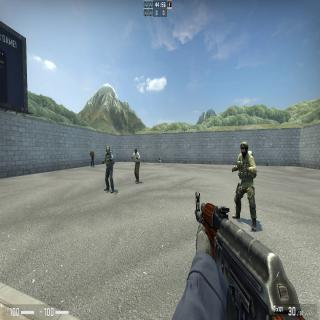CT-Body: (236, 140, 256, 220), (105, 145, 114, 191), (133, 148, 140, 184)
CT-Head: (240, 141, 248, 157), (106, 146, 110, 154), (135, 148, 137, 154)
T-Body: (91, 150, 94, 166)
T-Head: (91, 150, 93, 152)
